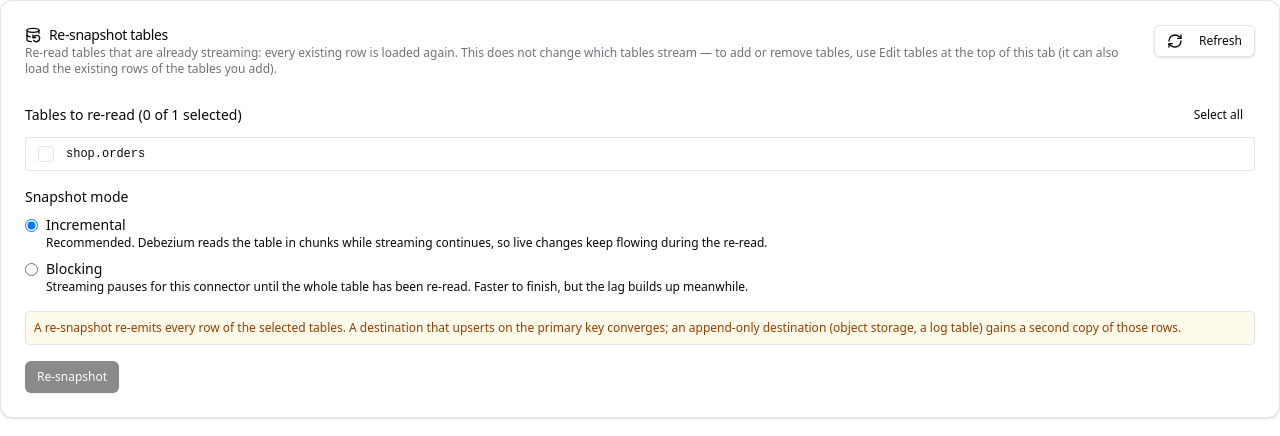
CdcResnapshotCard › keeps the button dead until a table is picked
Expected: the button "Re-snapshot" is disabled, [25,361,119,393]
Click the checkbox named "Re-snapshot shop.orders" at (46, 154), box [38,146,54,162]
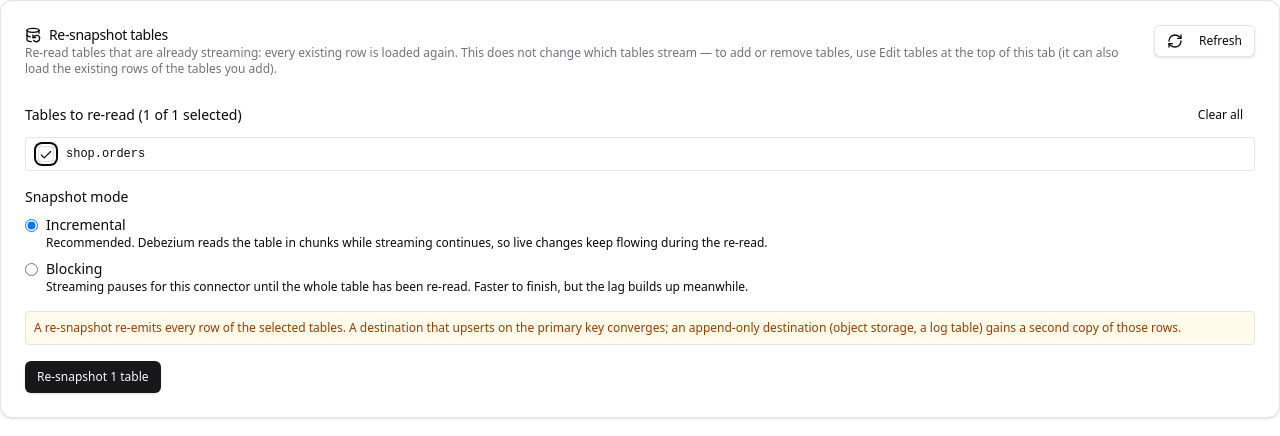
Result: the button "Re-snapshot 1 table" is enabled at [25,361,160,393]
